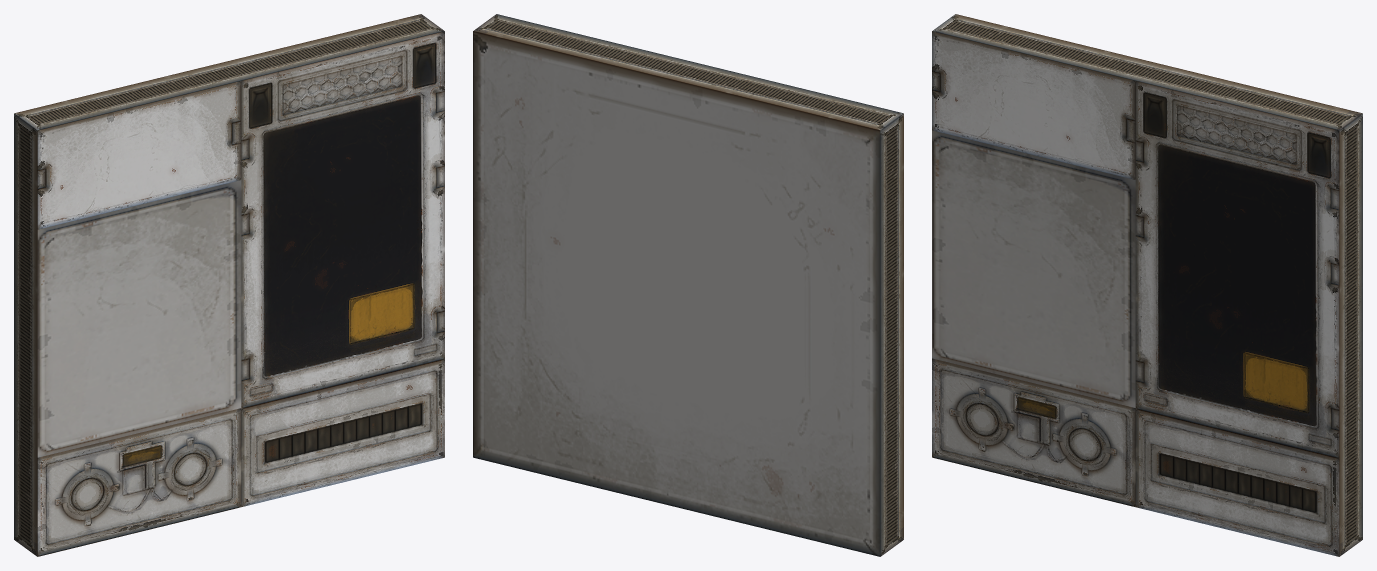
The model's file is scifi_wall8_1.FBX.
The picture shows the model from 3 angles, left to right: view 1: azimuth 30°, elevation 25°; view 2: azimuth 150°, elevation 25°; view 3: azimuth 330°, elevation 25°; orthographic projection.
Parts seen in each view (by area): view 1: Plane034; view 2: Plane034; view 3: Plane034.
Part boxes in pixels (x1=…): Plane034: x1=14, y1=14, x2=444, y2=556; Plane034: x1=473, y1=14, x2=903, y2=556; Plane034: x1=932, y1=14, x2=1362, y2=556.
Size of the model in its own units: 254 by 254 by 25.4.
